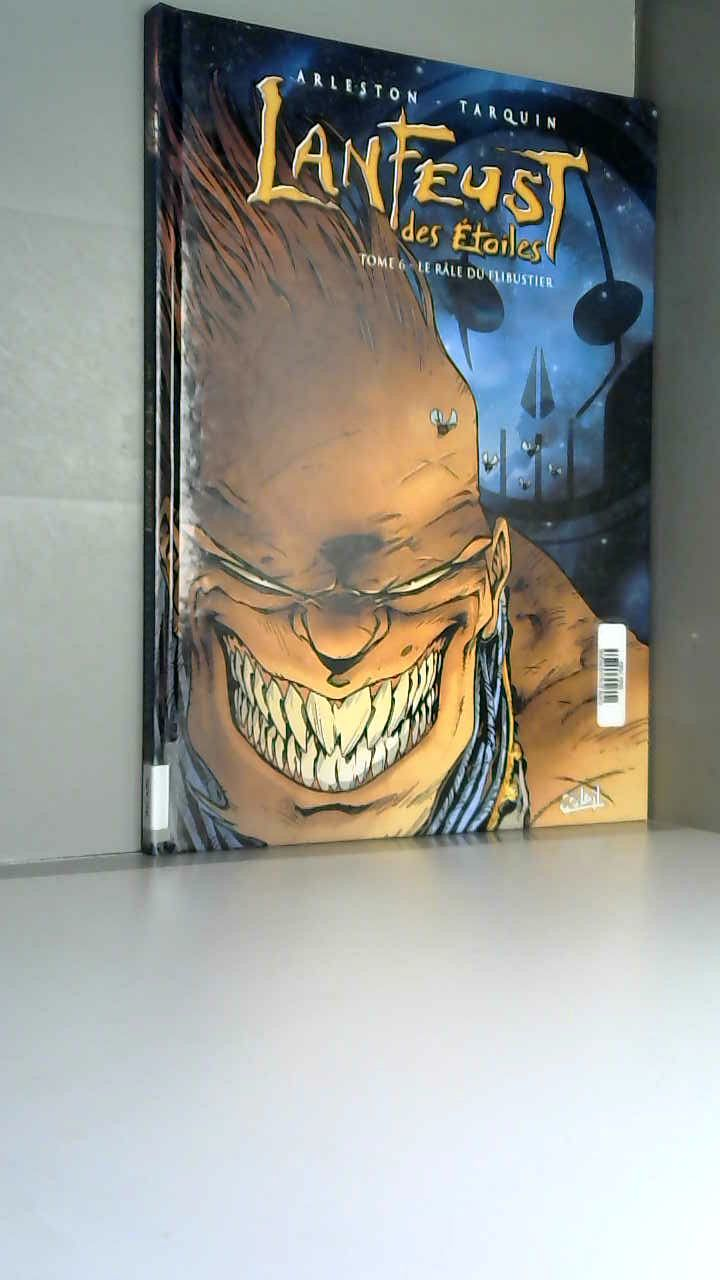book: (110, 0, 717, 884)
